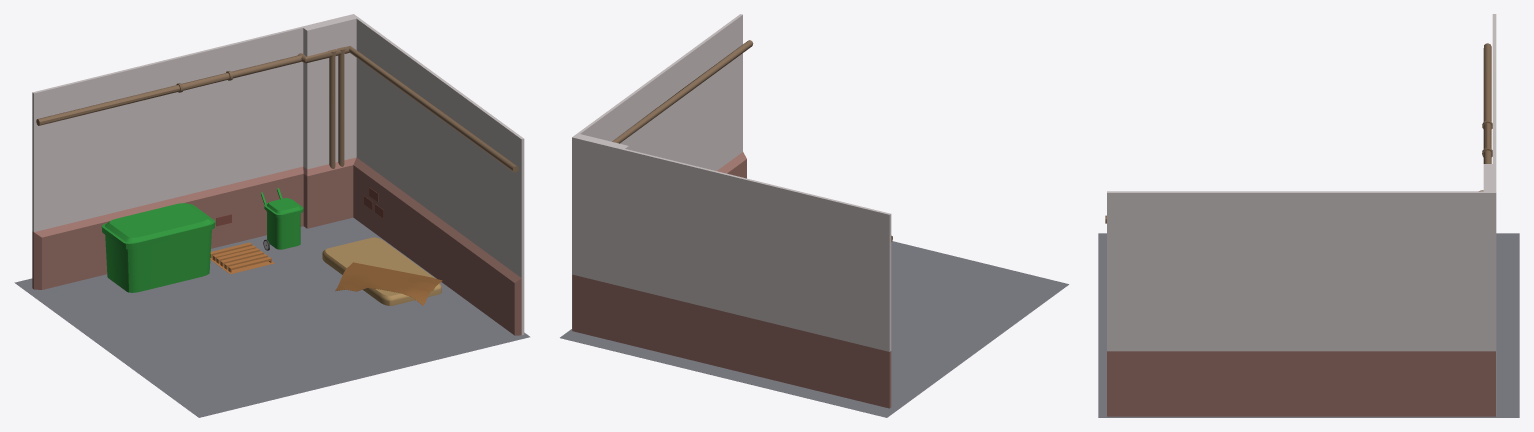
Rendered from Street-env_Rap-battle.fbx.
3 views of the same model, side by side, from view 1: azimuth 30°, elevation 25°; view 2: azimuth 150°, elevation 25°; view 3: azimuth 270°, elevation 25° (orthographic). The views are drawn at different scales.
Visible parts, largest first — view 1: Walls, Floor, big-bin, matt, Plane.001, Pipes2, Pipes3, small-bin, Cube.011, Pipes, Pipes1; view 2: Walls, Floor, Pipes3; view 3: Walls, Floor, Pipes2.
Boxes of the visible parts, x1,y1,x2,y2 form: Walls: (32,14,524,335); Floor: (14,217,529,417); big-bin: (101,203,215,292); matt: (322,237,441,305); Plane.001: (335,262,442,305); Pipes2: (36,54,304,125); Pipes3: (297,46,518,172); small-bin: (261,188,303,250); Cube.011: (210,242,271,272); Pipes: (328,49,336,168); Pipes1: (337,47,345,166); Walls: (572,14,891,408); Floor: (560,241,1068,417); Pipes3: (612,40,753,143); Walls: (1107,14,1496,416); Floor: (1098,233,1519,417); Pipes2: (1482,43,1492,163).
Bounding box in the file's own units: 3879 × 2203 × 3743.
